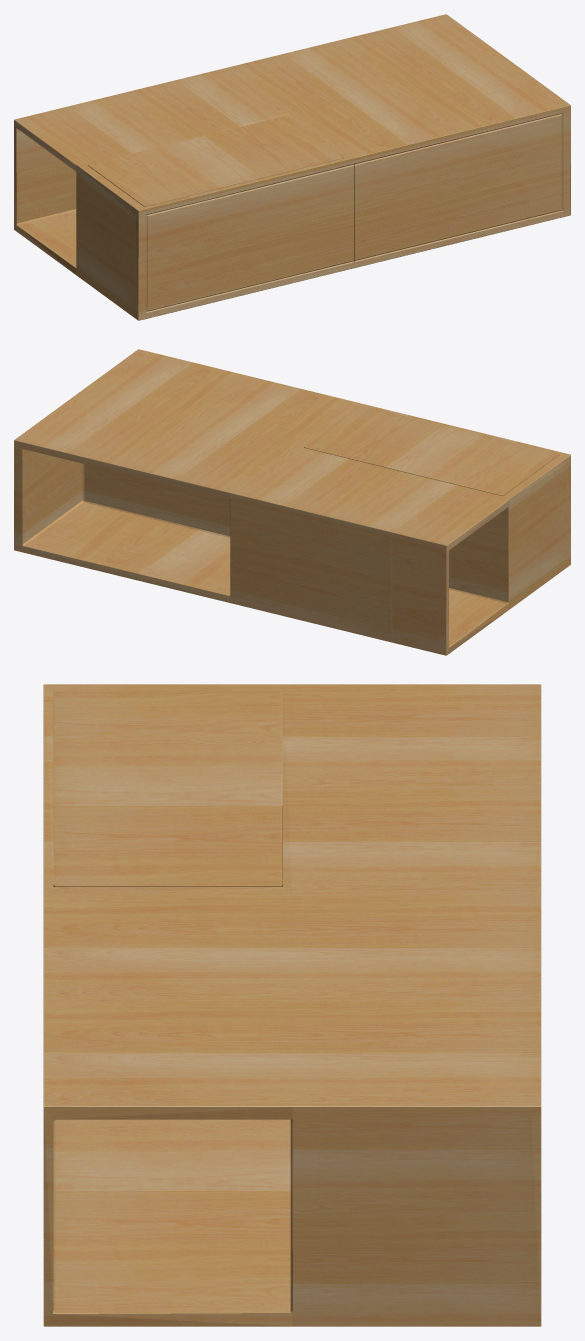
The model's file is furniture_val_amber_plaster_c0.dae.
3 views of the same model, one above another, from view 1: azimuth 30°, elevation 25°; view 2: azimuth 150°, elevation 25°; view 3: azimuth 270°, elevation 25° (orthographic). The views are drawn at different scales.
Parts seen in each view (by area): view 1: aws_CoffeeTable_01_visual; view 2: aws_CoffeeTable_01_visual; view 3: aws_CoffeeTable_01_visual.
Part boxes in pixels (bbox=[...]): aws_CoffeeTable_01_visual: bbox=[14, 14, 570, 320]; aws_CoffeeTable_01_visual: bbox=[14, 349, 570, 655]; aws_CoffeeTable_01_visual: bbox=[43, 684, 541, 1326].
Size of the model in its own units: 131 by 65.48 by 32.17.
Materials: 1 (1 with a texture image).
